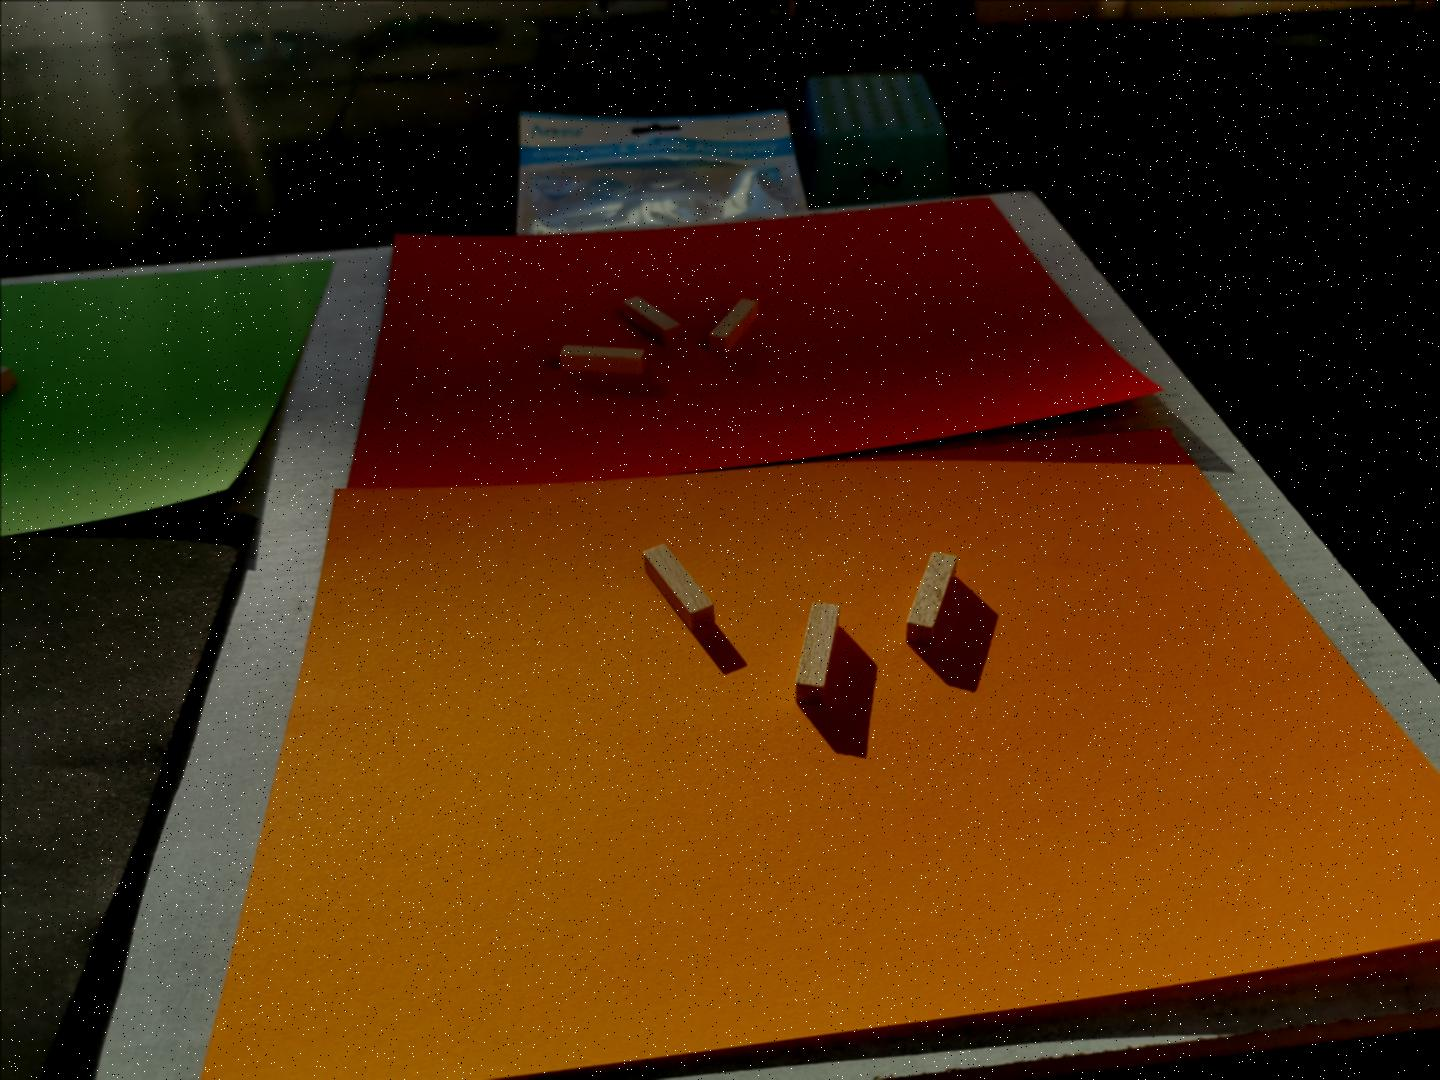jenga: (644, 542, 714, 630), (906, 551, 956, 644), (796, 602, 838, 706), (621, 295, 680, 346), (709, 298, 760, 352), (560, 343, 644, 374)
